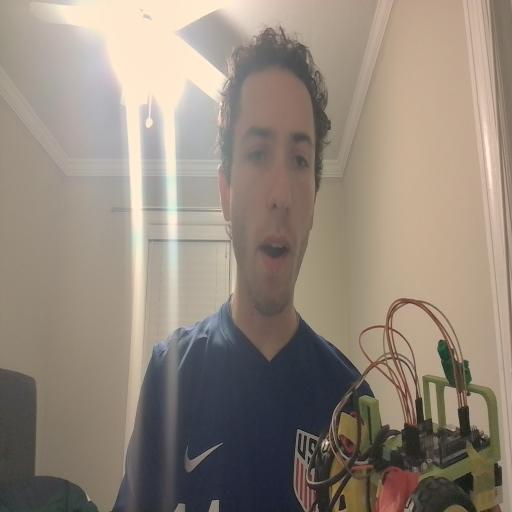green LEGO minifig: (436, 338, 473, 390)
